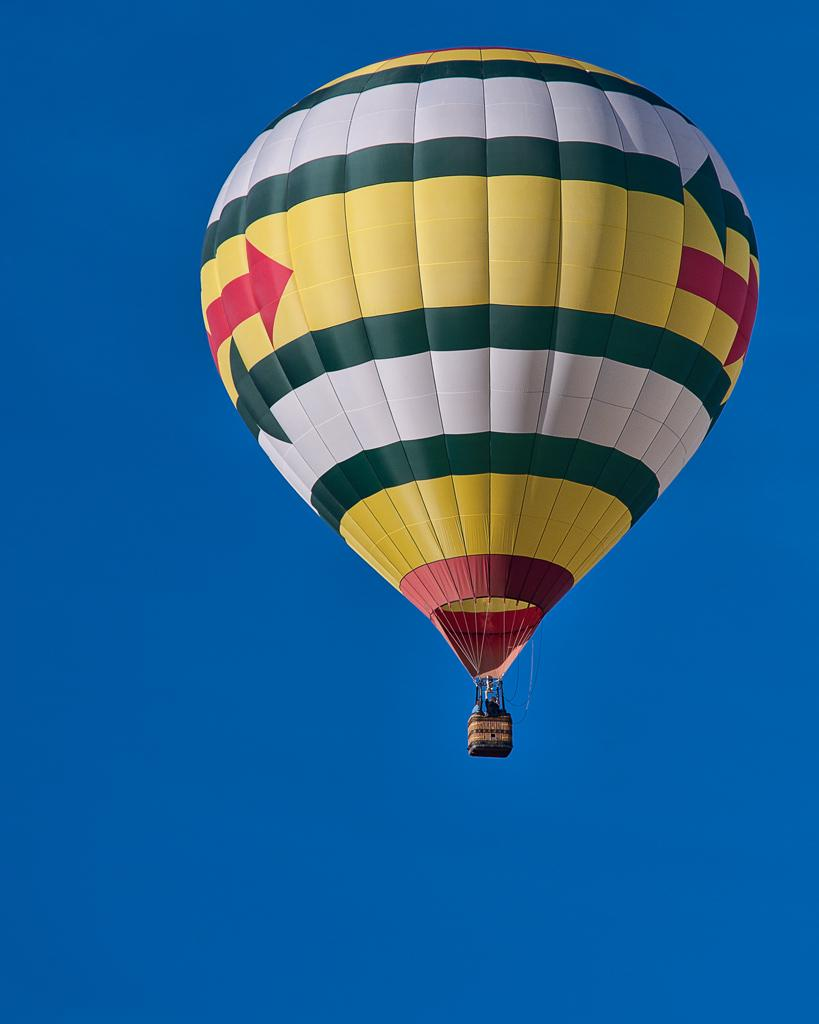balloon: (199, 45, 761, 758)
